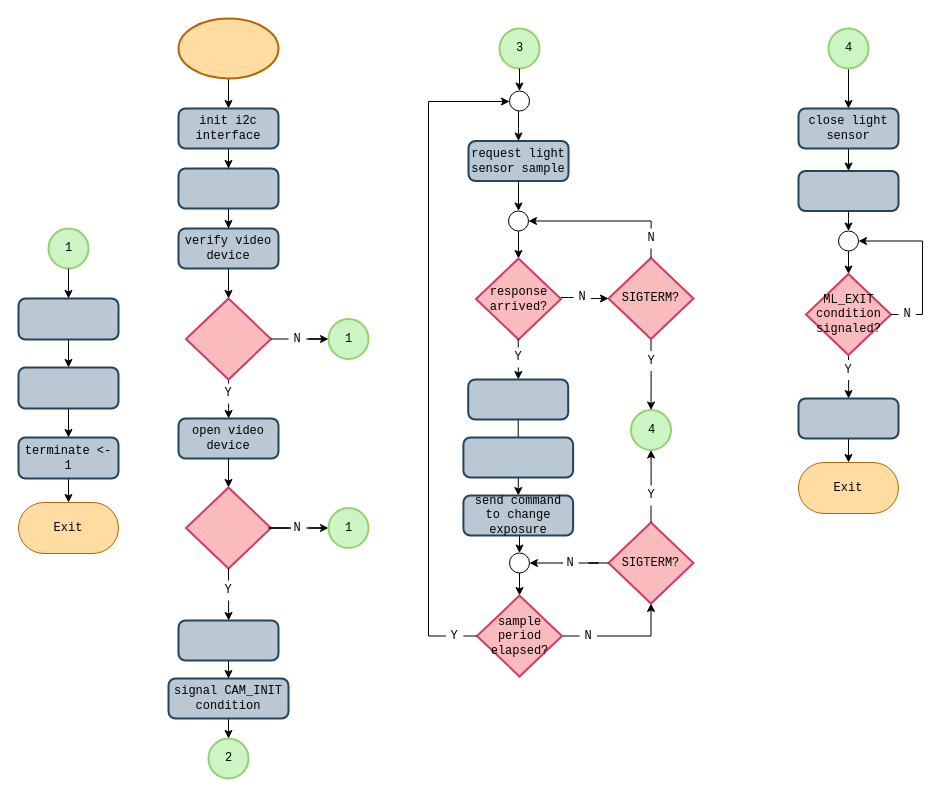
Image size: 948x796. Some labels were removed from this diagram. The shapes that lost their labels are listed below. From the top down, each one's centre as x and y in pixels, then its label:
At (x=228, y=48): "Start".
At (x=228, y=188): "init light sensor".
At (x=848, y=191): "close i2c interface".
At (x=68, y=318): "log error".
At (x=228, y=338): "device exists?".
At (x=68, y=387): "turn SYS_ON led red".
At (x=518, y=399): "calculate luminous flux".
At (x=848, y=418): "close video device".
At (x=518, y=457): "calculate target exposure value".
At (x=228, y=527): "success open?".
At (x=228, y=640): "config video device".
